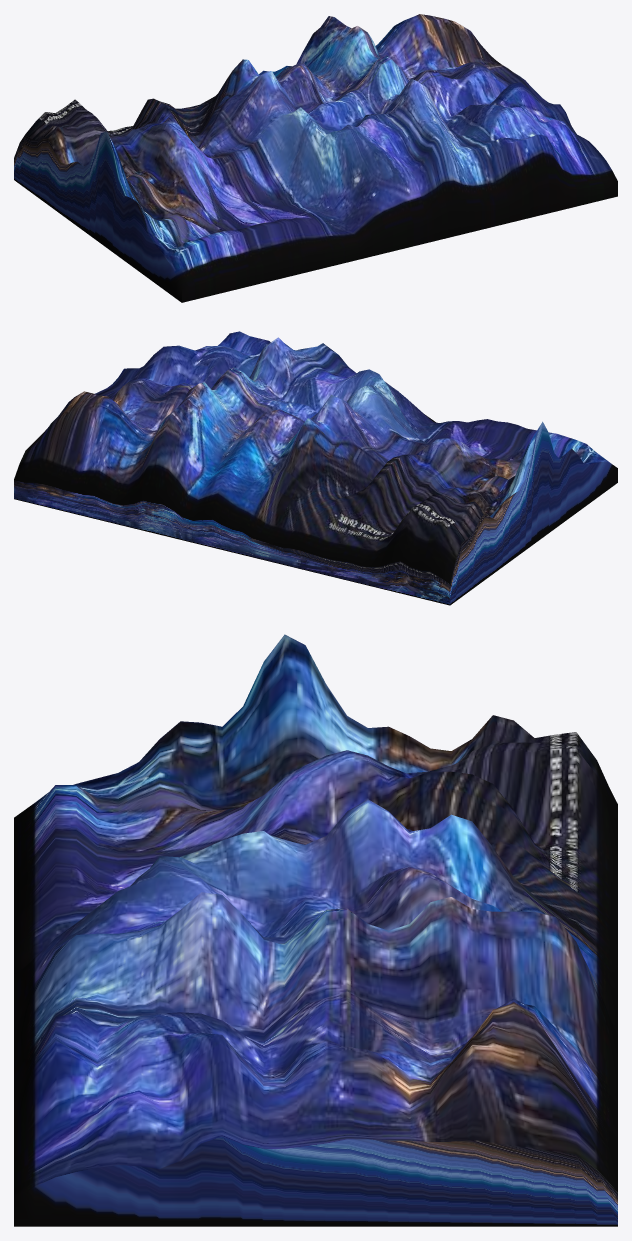
File: TOWER_INT_04_Crystal_Spire.glb
The picture shows the model from 3 angles, top to bottom: view 1: azimuth 30°, elevation 25°; view 2: azimuth 150°, elevation 25°; view 3: azimuth 270°, elevation 25°; orthographic projection. The views are drawn at different scales.
Visible parts, largest first — view 1: TOWER_INT_04_Crystal_Spire; view 2: TOWER_INT_04_Crystal_Spire; view 3: TOWER_INT_04_Crystal_Spire.
Part boxes in pixels (bbox=[...]): TOWER_INT_04_Crystal_Spire: bbox=[14, 14, 617, 302]; TOWER_INT_04_Crystal_Spire: bbox=[14, 331, 617, 605]; TOWER_INT_04_Crystal_Spire: bbox=[14, 634, 617, 1226].
Size of the model in its own units: 2 by 0.51 by 1.33.
Materials: 1 (1 with a texture image).
